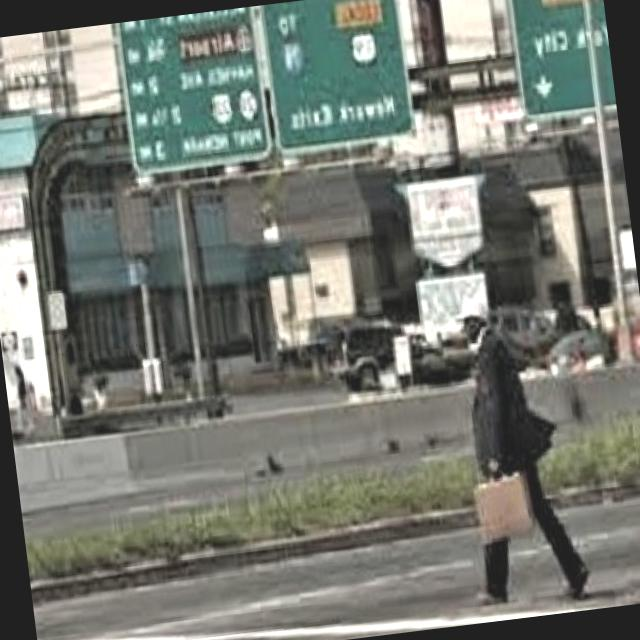Person: (430, 286, 593, 610)
